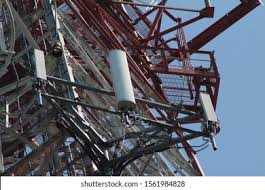sa: (100, 39, 137, 127), (189, 83, 222, 140), (27, 43, 54, 104)
